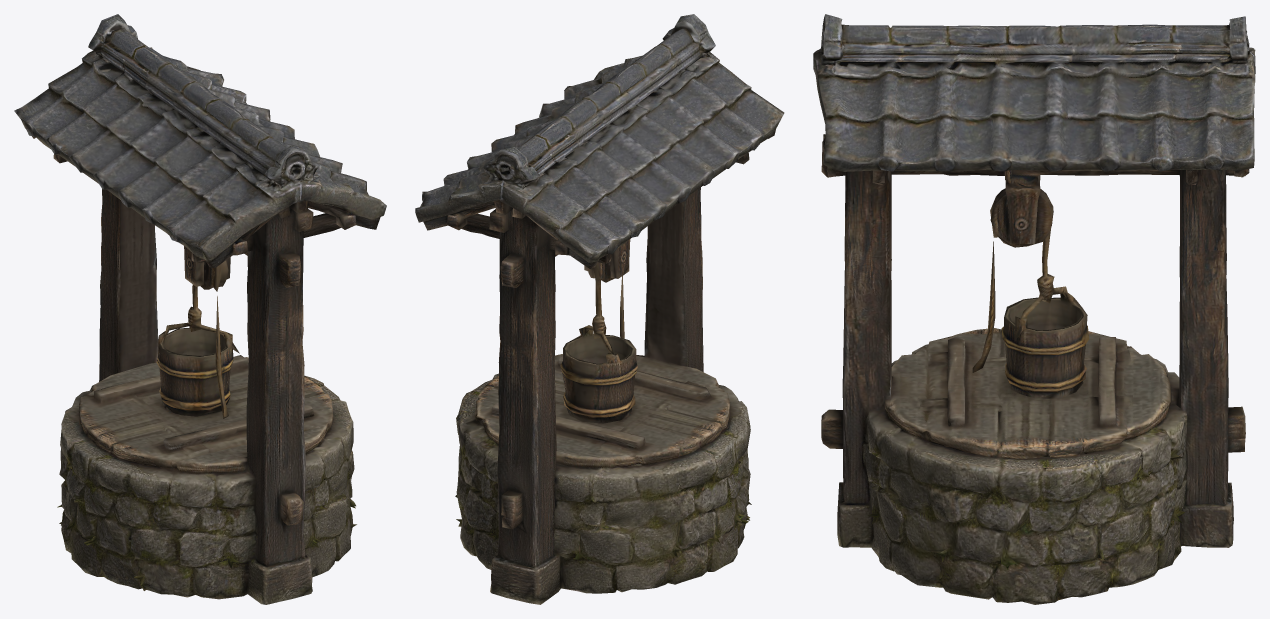
File: well.glb
3 views of the same model, side by side, from view 1: azimuth 30°, elevation 25°; view 2: azimuth 150°, elevation 25°; view 3: azimuth 270°, elevation 25° (orthographic). The views are drawn at different scales.
Parts seen in each view (by area): view 1: tripo_node_28d3ff2b-da03-4e8f-ab72-75ebe702eae9; view 2: tripo_node_28d3ff2b-da03-4e8f-ab72-75ebe702eae9; view 3: tripo_node_28d3ff2b-da03-4e8f-ab72-75ebe702eae9.
Boxes of the visible parts, box(x1,y1,x2,y2) form: tripo_node_28d3ff2b-da03-4e8f-ab72-75ebe702eae9: box(14, 14, 386, 604); tripo_node_28d3ff2b-da03-4e8f-ab72-75ebe702eae9: box(415, 14, 784, 604); tripo_node_28d3ff2b-da03-4e8f-ab72-75ebe702eae9: box(813, 14, 1255, 604).
Size of the model in its own units: 1.65 by 2.7 by 2.08.
Materials: 1 (1 with a texture image).
